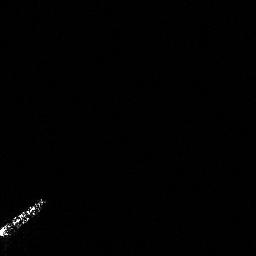ship: (1, 194, 51, 240)
